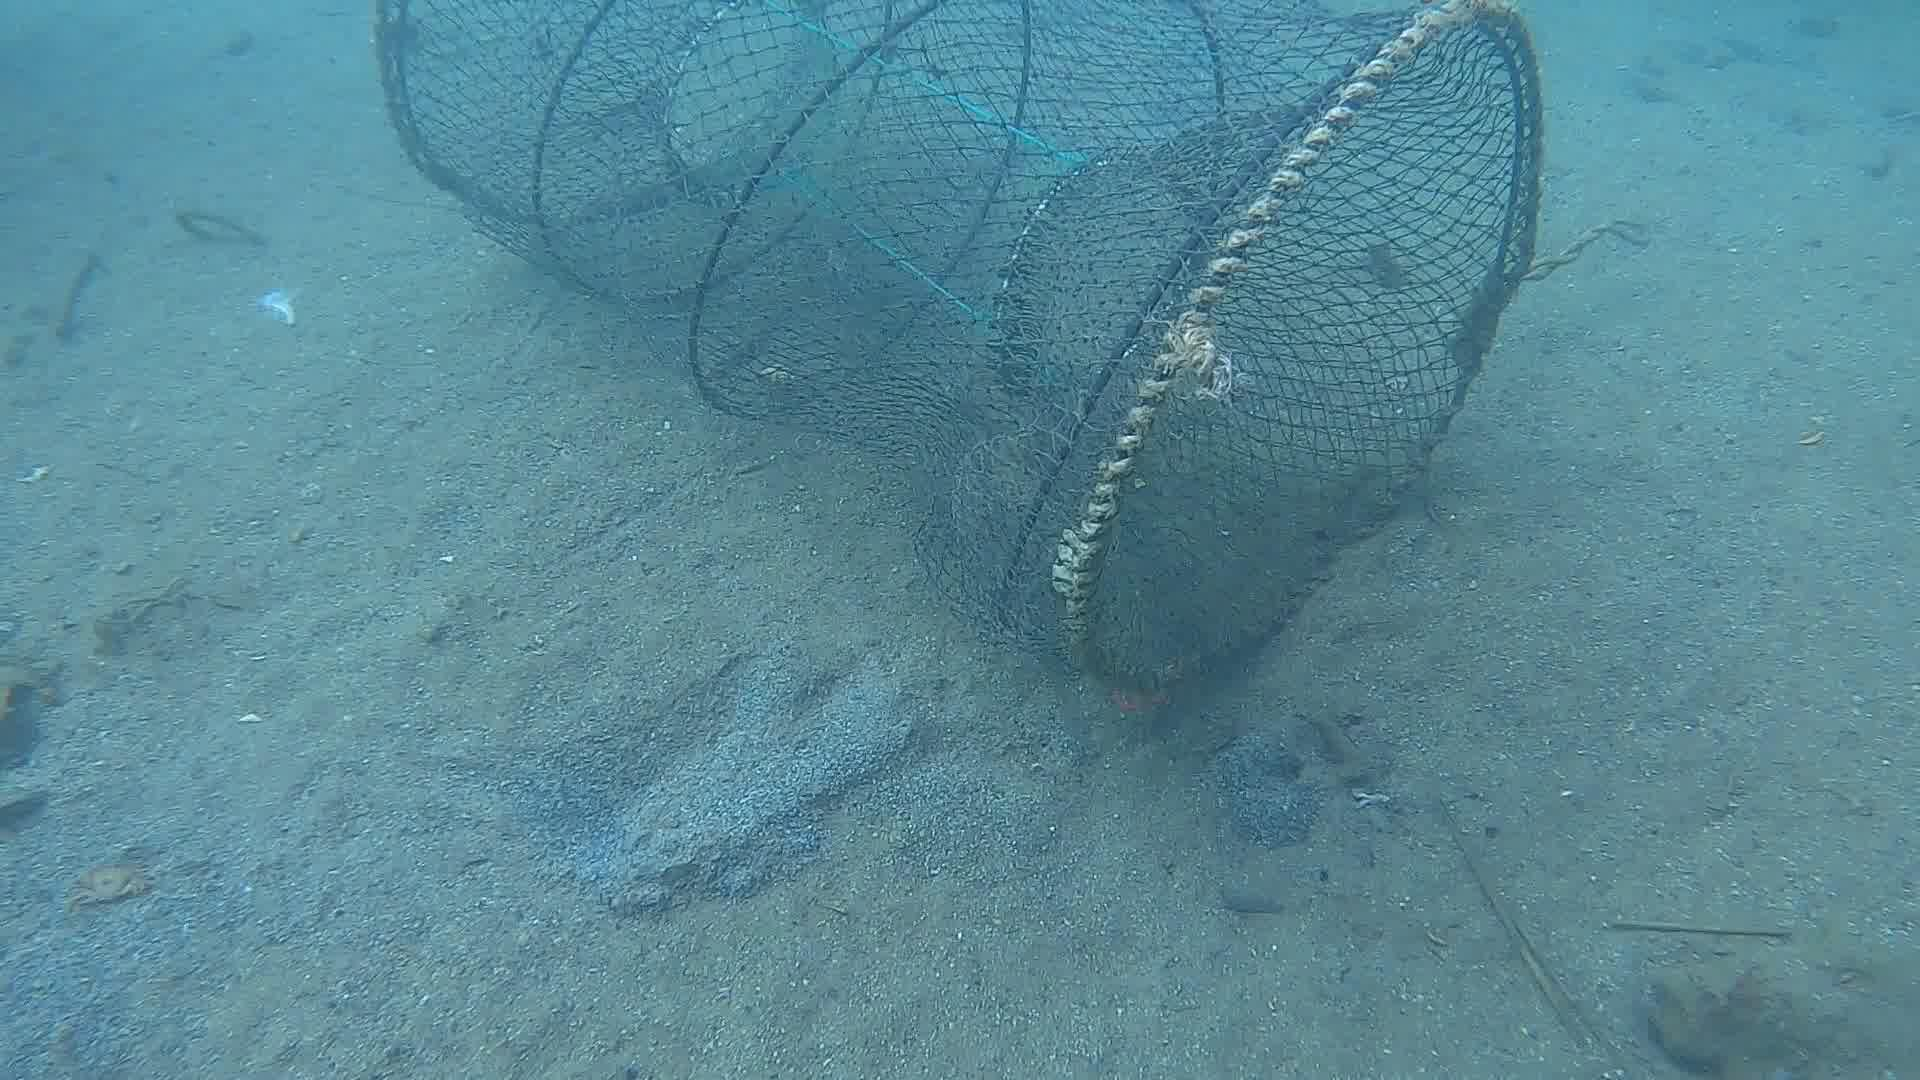bundle of ropes: (1530, 211, 1650, 272)
spring fish trap: (371, 0, 1545, 695)
